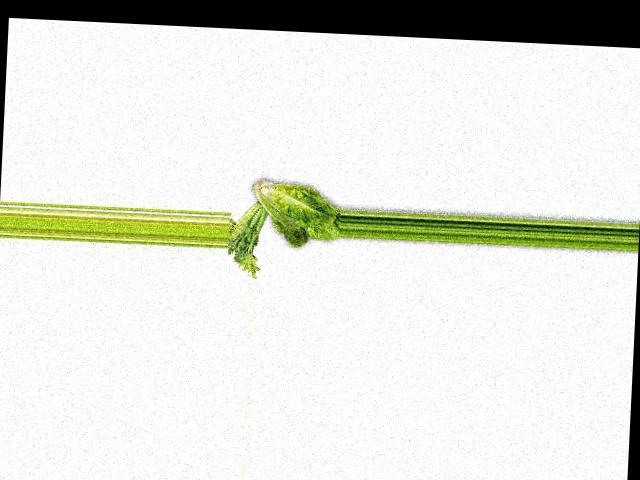lettuce: (244, 182, 343, 256)
